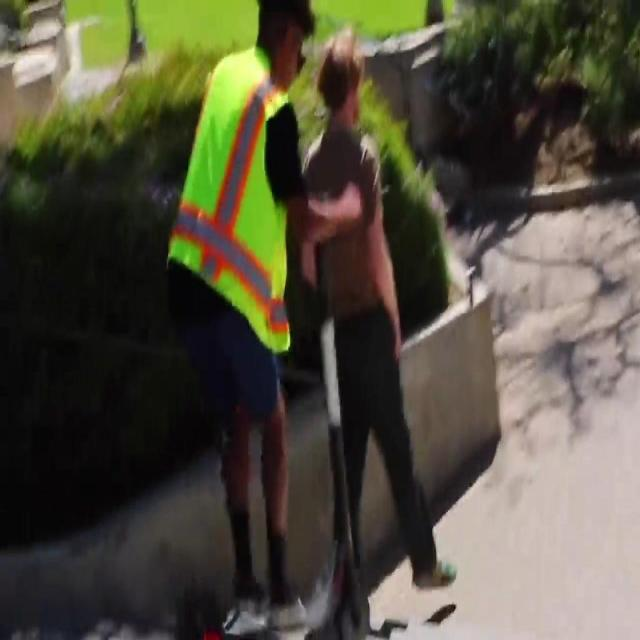Vest: (164, 42, 292, 356)
